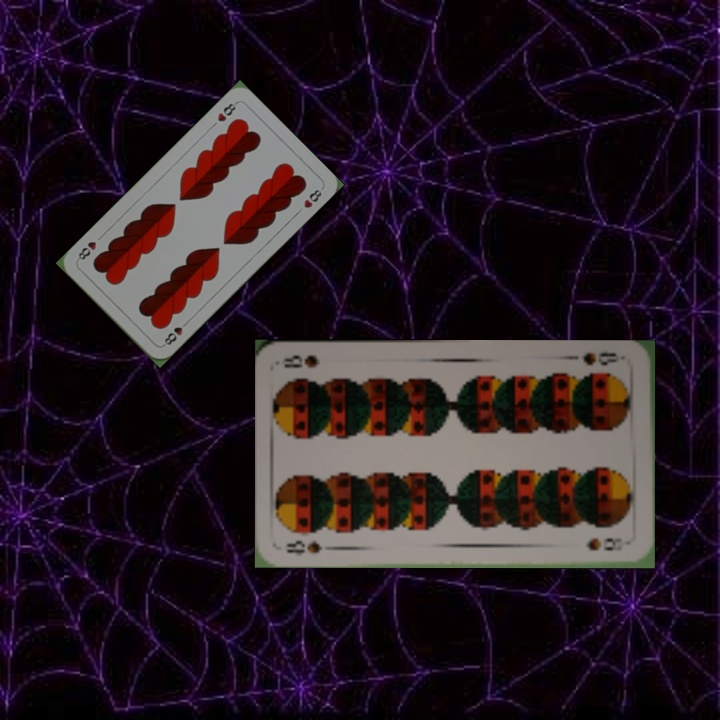H8: (159, 316, 191, 349), (213, 98, 240, 124)
S8: (282, 536, 338, 557), (579, 349, 623, 368)
